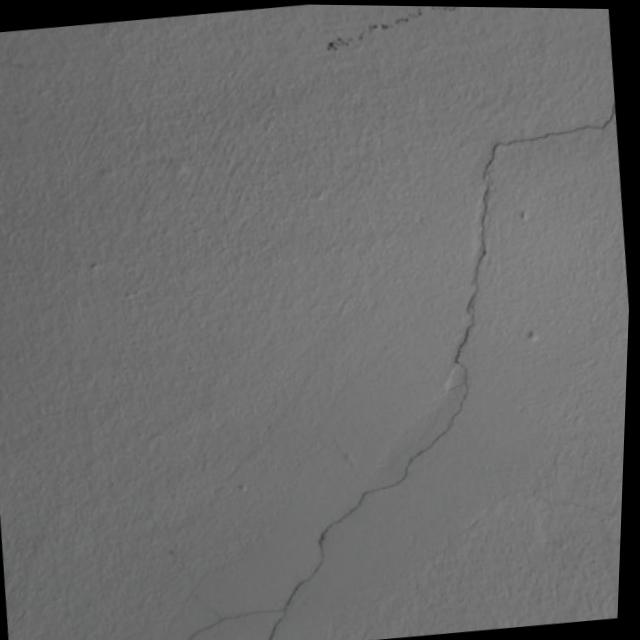Crack: (96, 81, 638, 640)
